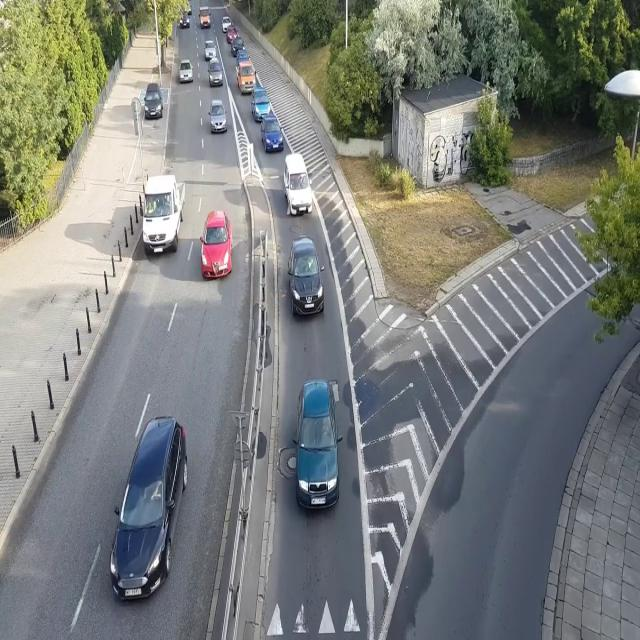car: (108, 413, 188, 606), (292, 381, 344, 514), (286, 234, 326, 319), (198, 209, 234, 279), (260, 116, 285, 152), (143, 80, 164, 120), (250, 86, 272, 121), (209, 100, 226, 135), (206, 58, 224, 87), (177, 59, 194, 84), (204, 38, 217, 61), (236, 50, 250, 66), (231, 38, 245, 54), (179, 12, 190, 29), (226, 25, 238, 40), (221, 15, 231, 30), (182, 3, 192, 13)
truck: (141, 174, 186, 259), (235, 62, 256, 94)
van: (282, 152, 314, 216), (198, 5, 212, 30)
